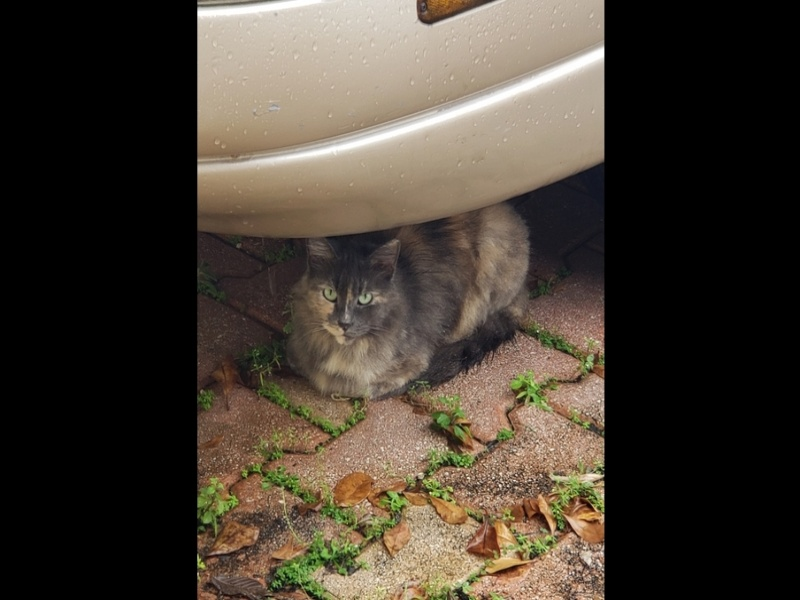cat: (283, 198, 539, 397)
